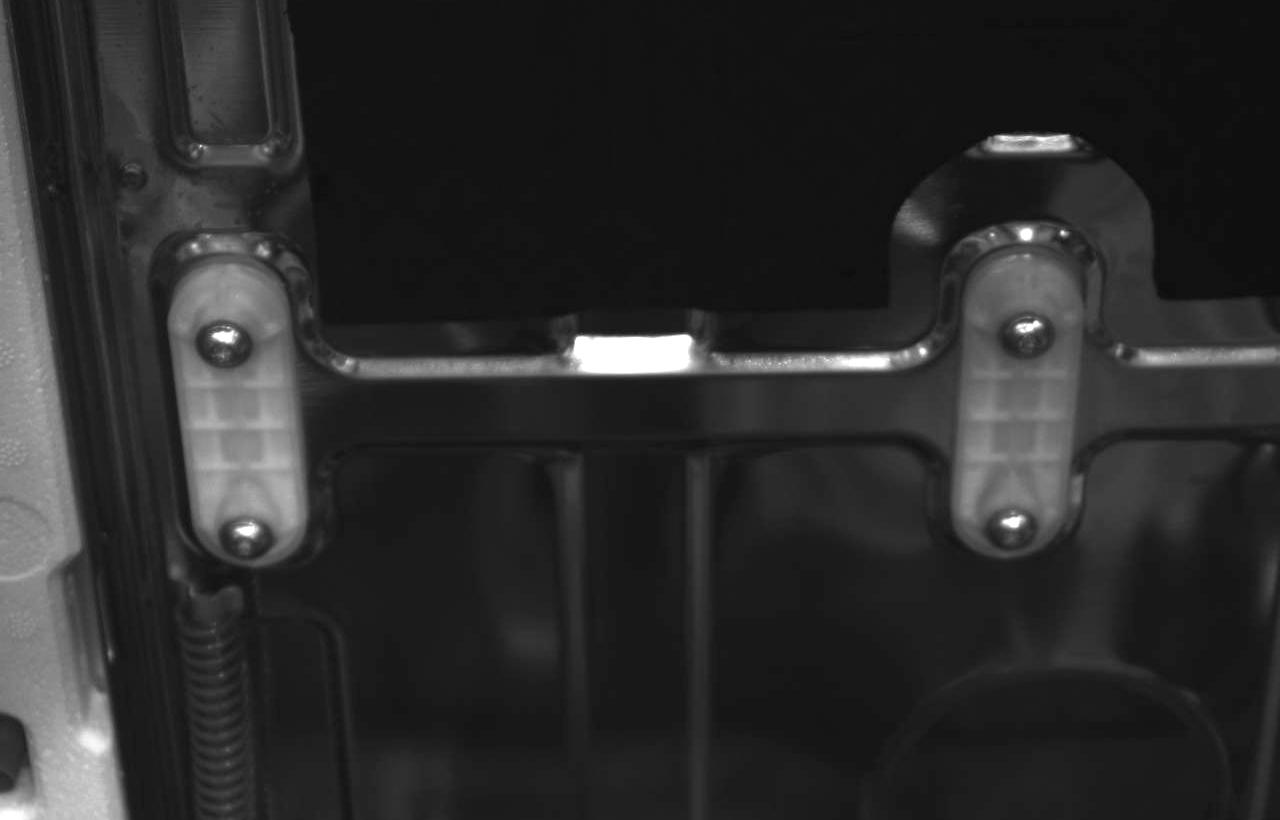vida-ok: (187, 308, 259, 375), (990, 294, 1057, 361), (977, 491, 1043, 559), (213, 509, 279, 568)
